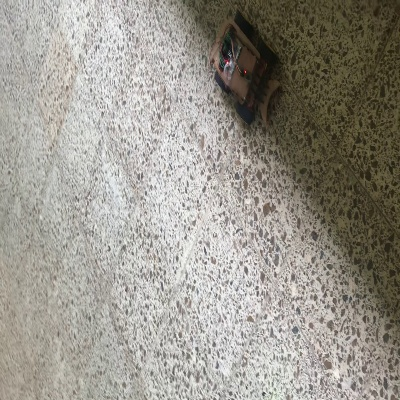Robot: (211, 8, 281, 124)
